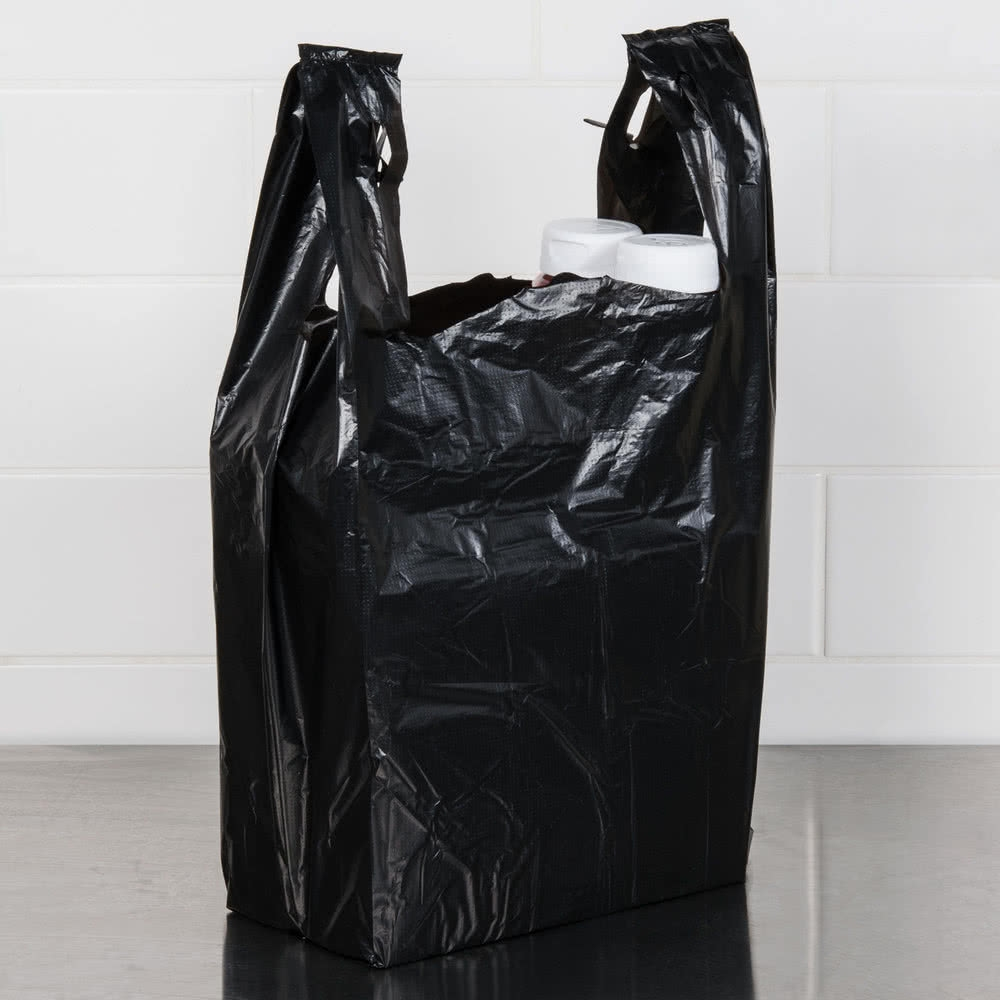plastic bag: (206, 17, 780, 956)
